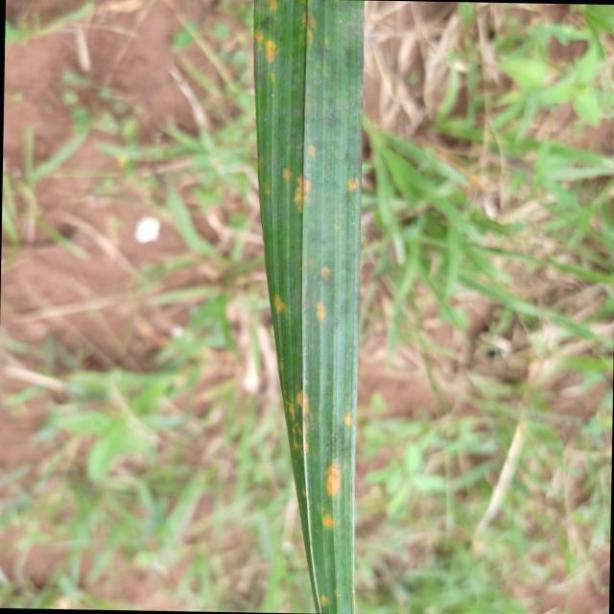Kalium: (251, 0, 366, 614)
